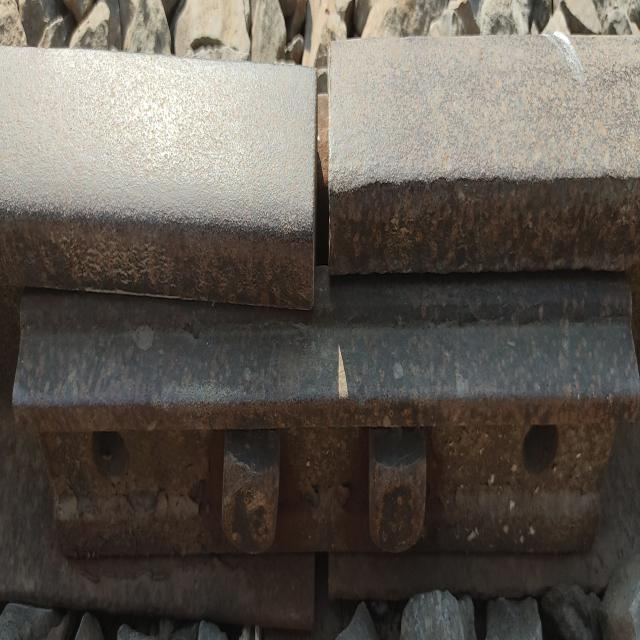broken_rail_low: (288, 33, 352, 304)
railway_join_bar_defects_low: (516, 329, 572, 562), (77, 370, 156, 533)
